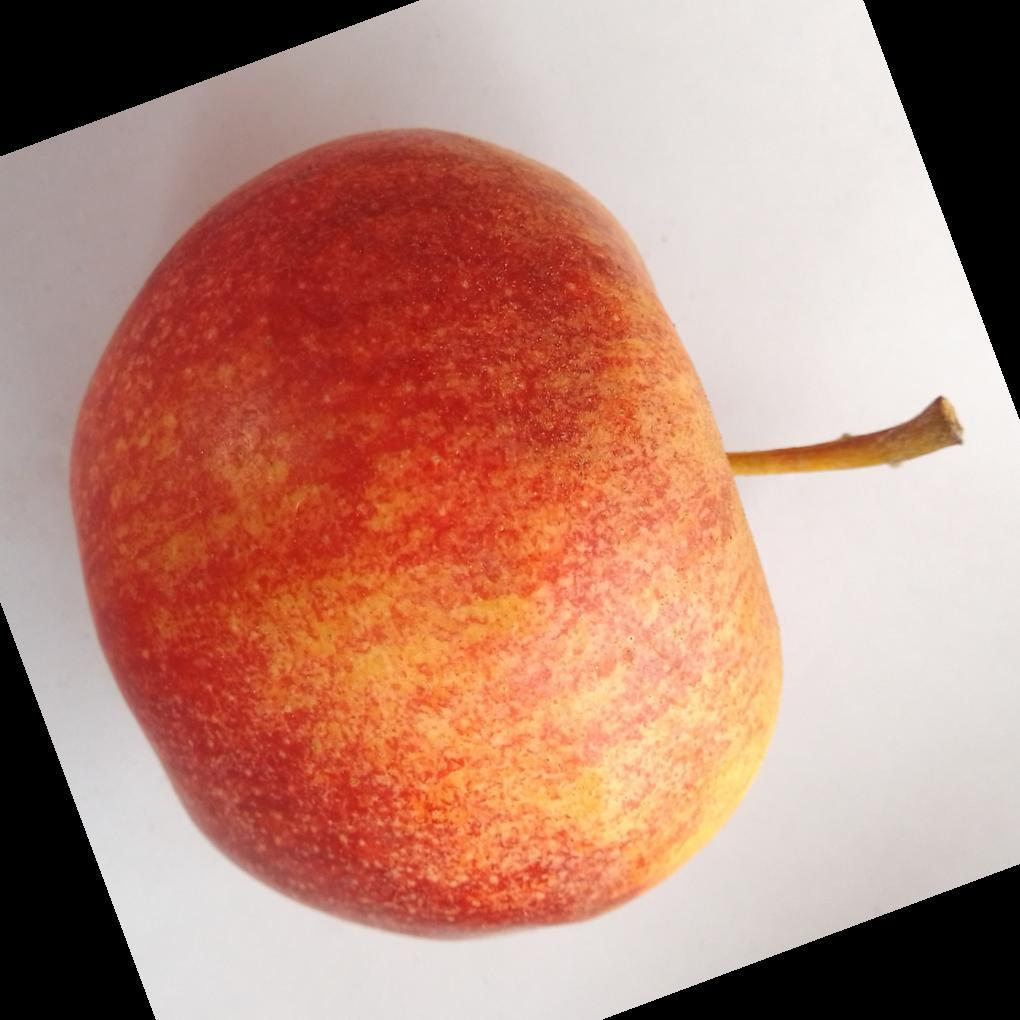FreshGuava: (67, 128, 786, 943)
